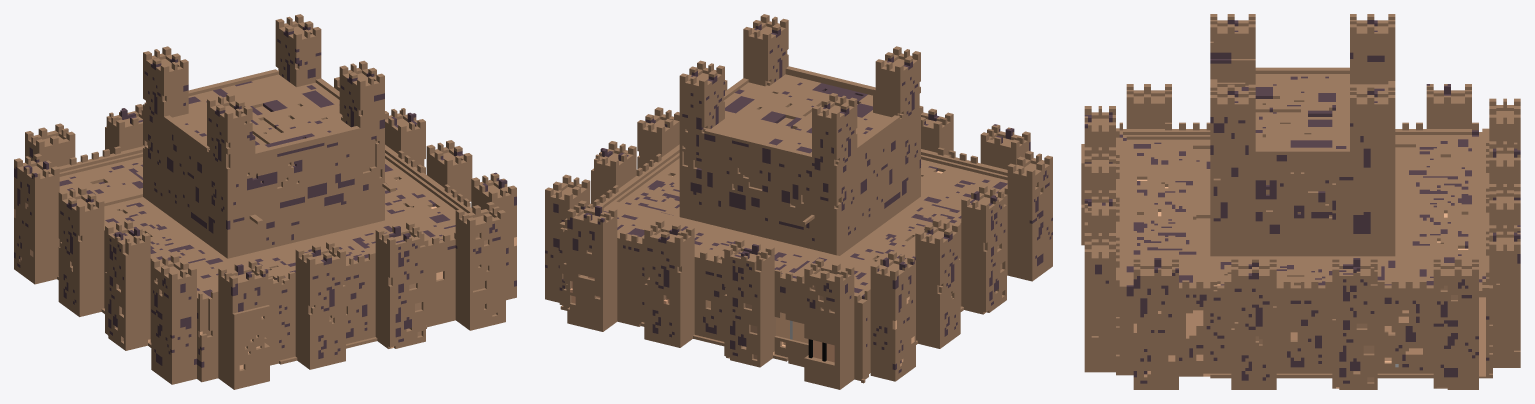
File: wallllll.obj
3 renders of one model, left to right at view 1: azimuth 30°, elevation 25°; view 2: azimuth 150°, elevation 25°; view 3: azimuth 270°, elevation 25°, orthographic. The views are drawn at different scales.
Size of the model in its own units: 12.6 by 8 by 12.6.
Materials: 1 (1 with a texture image).
